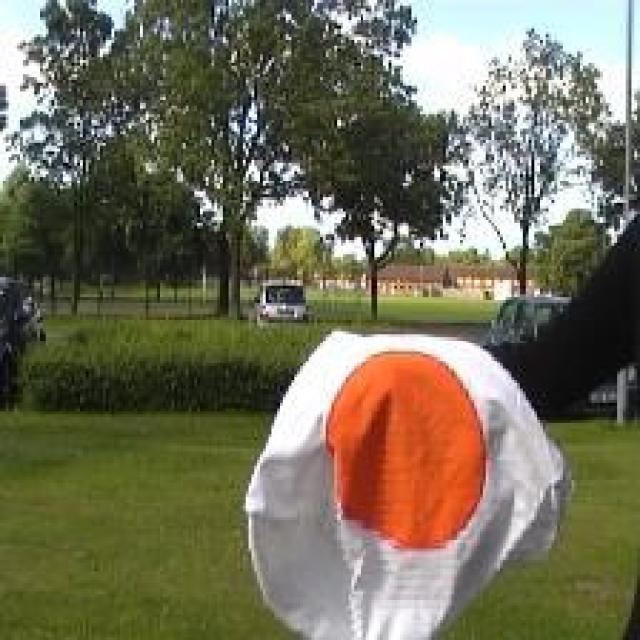other: (308, 346, 516, 577)
